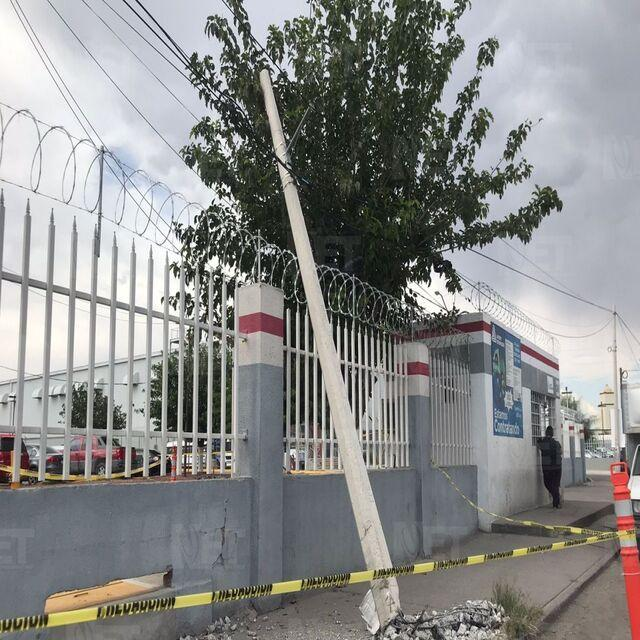Inclined Pole: (256, 63, 512, 640)
